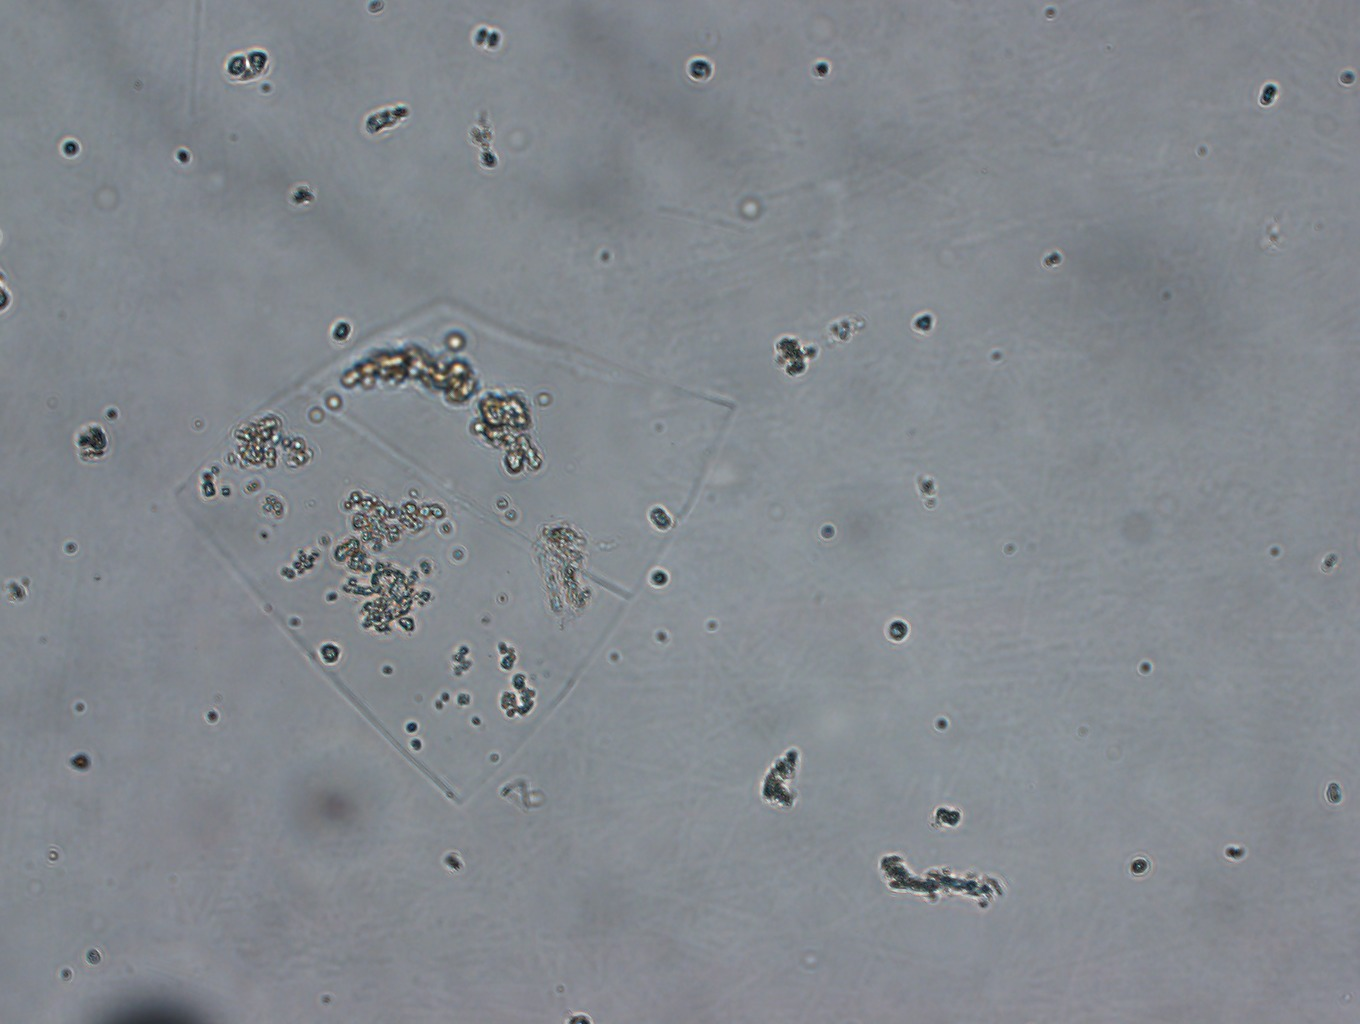helicotheca: (167, 294, 733, 812)
